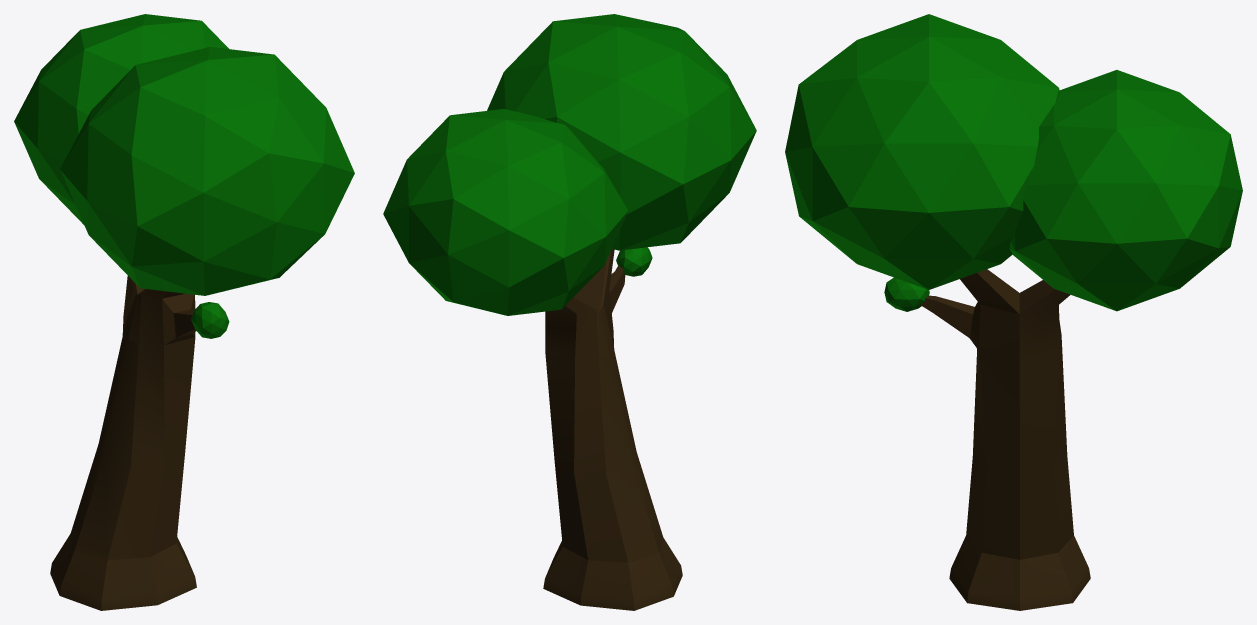
The model's file is TreeGreen2.fbx.
The picture shows the model from 3 angles, left to right: view 1: azimuth 30°, elevation 25°; view 2: azimuth 150°, elevation 25°; view 3: azimuth 270°, elevation 25°; orthographic projection. The views are drawn at different scales.
Parts seen in each view (by area): view 1: Tree2; view 2: Tree2; view 3: Tree2.
Boxes of the visible parts, left/top/right/bottom form: Tree2: left=14, top=14, right=354, bottom=610; Tree2: left=383, top=14, right=756, bottom=610; Tree2: left=785, top=14, right=1242, bottom=610.
Size of the model in its own units: 1.14 by 2.35 by 1.74.
